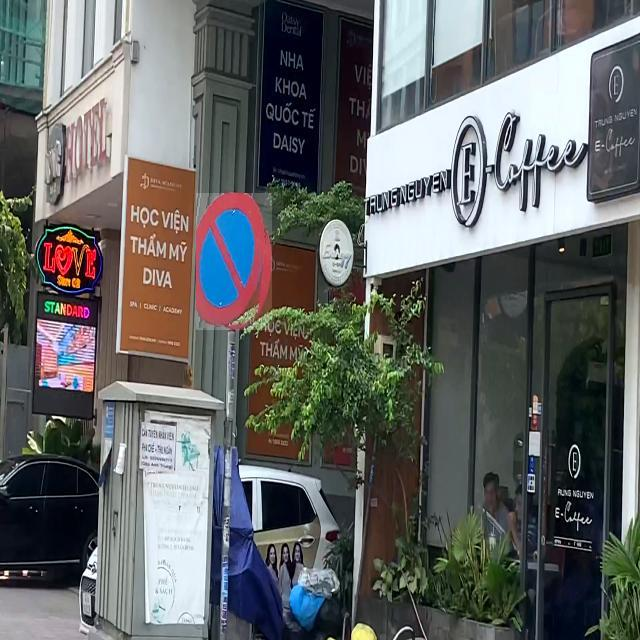P-131a: (196, 193, 272, 330)
